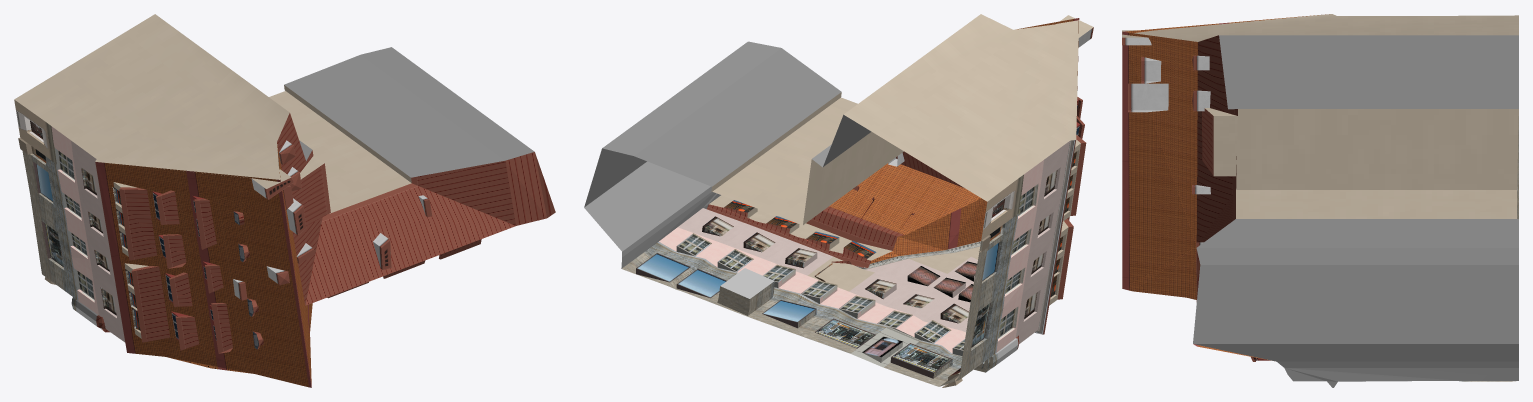
The model's file is 8a-origo.obj.
3 views of the same model, side by side, from view 1: azimuth 30°, elevation 25°; view 2: azimuth 150°, elevation 25°; view 3: azimuth 270°, elevation 25° (orthographic). The views are drawn at different scales.
Parts seen in each view (by area): view 1: 8a; view 2: 8a; view 3: 8a.
Part boxes in pixels (x1,y1,x2,y2): 8a: (14,14,555,387); 8a: (584,14,1093,387); 8a: (1122,14,1518,387).
Size of the model in its own units: 36.69 by 22 by 28.47.
